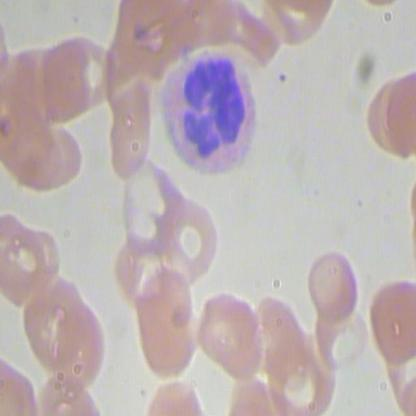RBC: (132, 269, 202, 381), (195, 285, 268, 384), (20, 271, 87, 369), (101, 82, 153, 180), (311, 296, 368, 372), (165, 200, 218, 280), (368, 279, 415, 368), (306, 244, 358, 321)
WBC: (155, 46, 269, 182)
